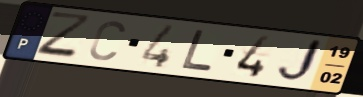4: (138, 23, 175, 70), (232, 34, 270, 79)
C: (87, 18, 128, 63)
J: (273, 37, 326, 85)
L: (179, 28, 217, 73)
Z: (33, 10, 96, 62)
